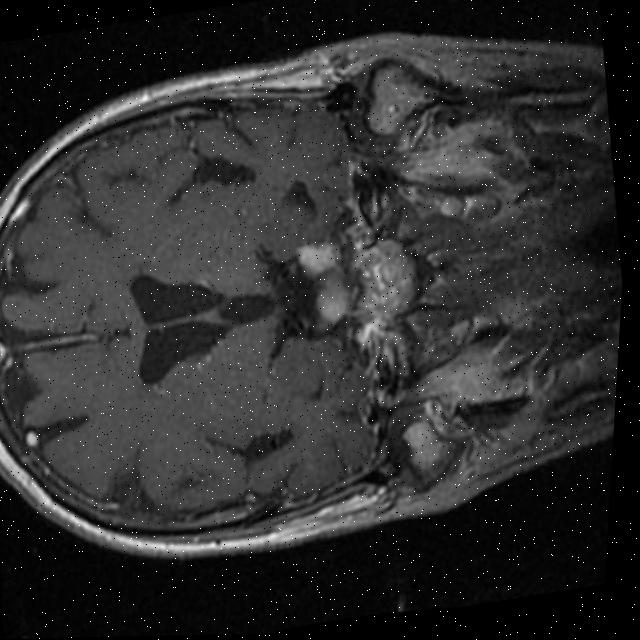Pituitary: (294, 235, 364, 331), (349, 234, 423, 323)
